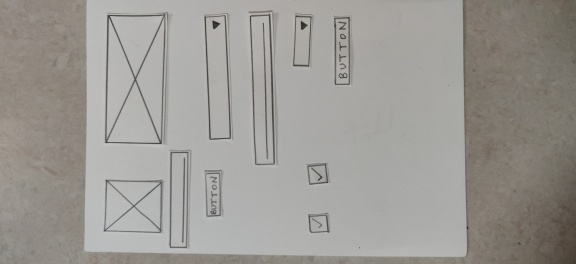button: (332, 13, 353, 87), (202, 168, 224, 219)
checkbox: (305, 160, 330, 186), (307, 211, 331, 235)
dropdown: (202, 12, 234, 142), (290, 12, 314, 68)
img: (102, 10, 168, 146), (102, 175, 165, 237)
text: (247, 9, 279, 168), (168, 149, 191, 250)
